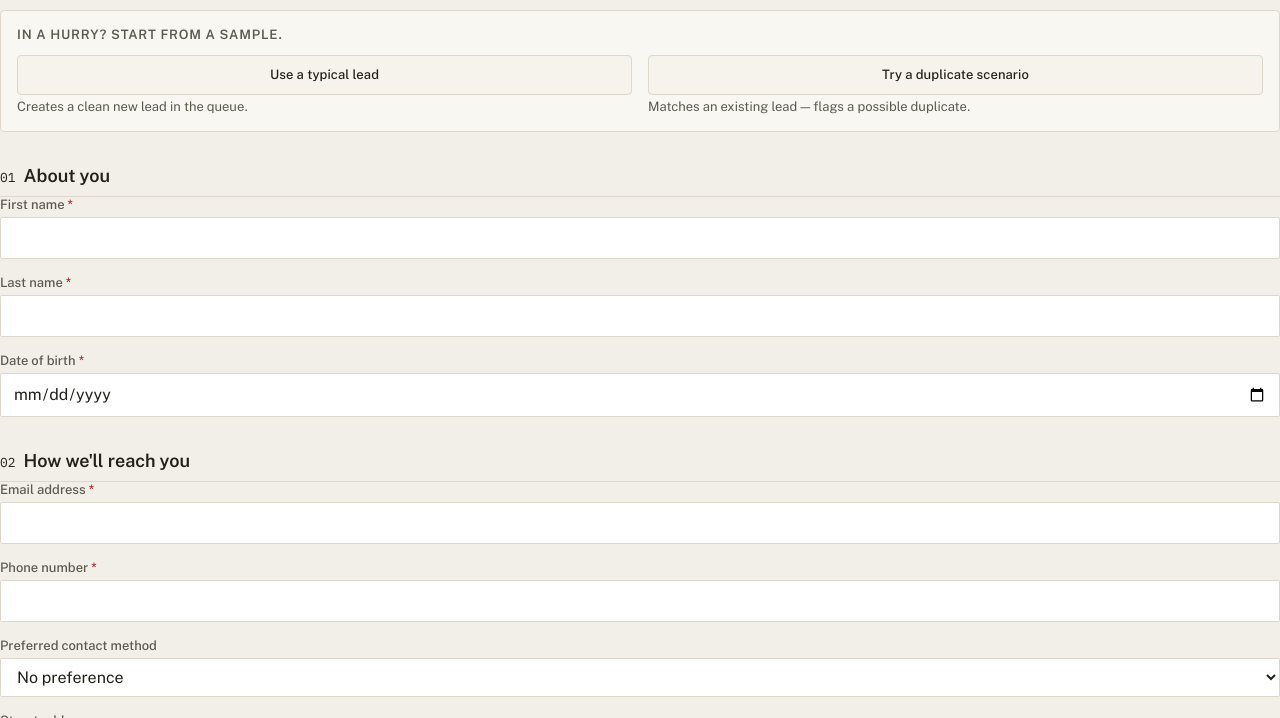
Scenario: ShopperIntakeForm submission › shows a form-level error on a 429 and keeps the entered data
Type "Margaret" into the field with id "shopper-intake-first-name" at (640, 238), box [0,217,1279,259]
Type "Chen" into the field with id "shopper-intake-last-name" at (640, 316), box [0,295,1279,337]
Type "1956-03-12" into the date field with id "shopper-intake-date-of-birth" at (640, 395), box [0,373,1279,417]
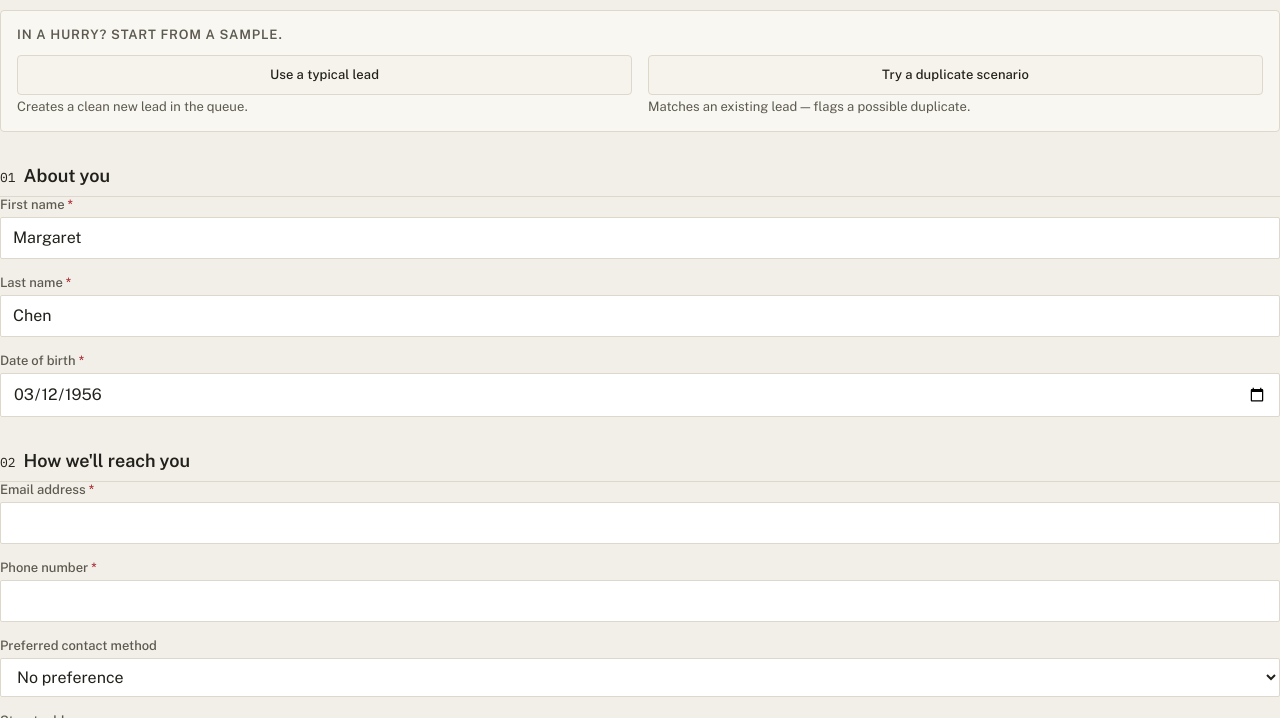
Type "margaret.chen@example.com" into the field with id "shopper-intake-email" at (640, 523), box [0,502,1279,544]
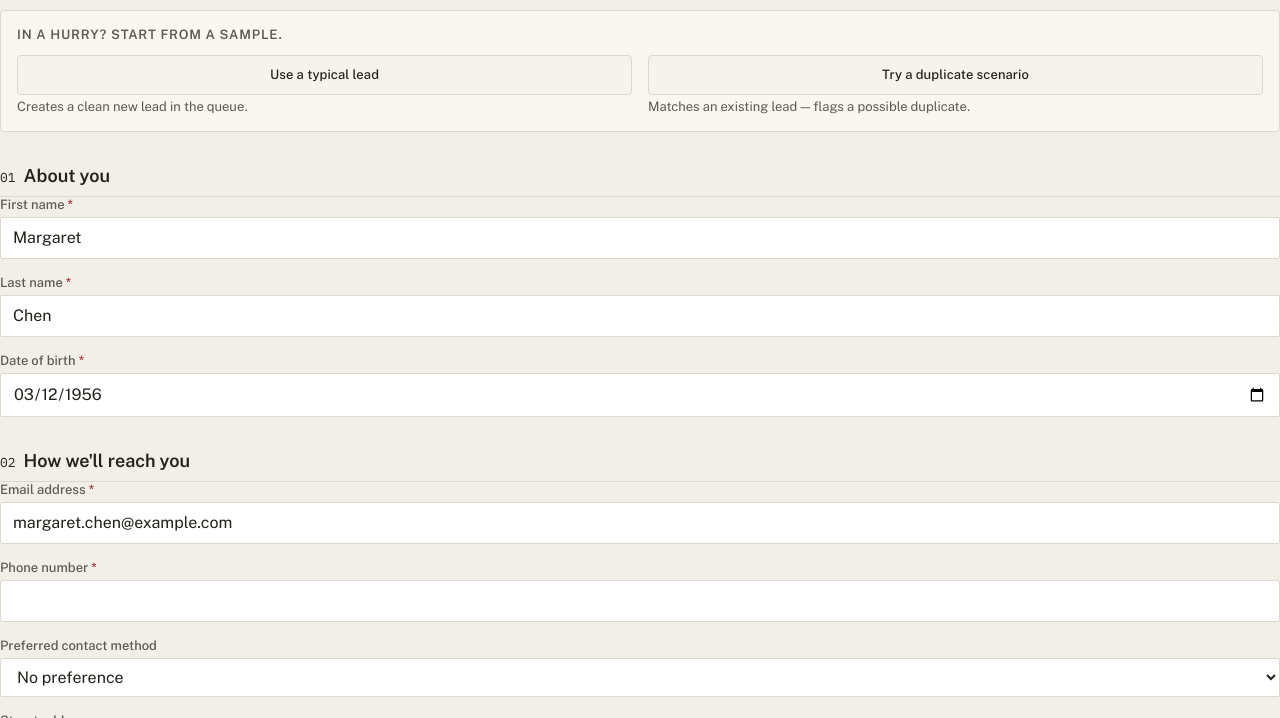
Type "(305) 555-0149" into the field with id "shopper-intake-phone" at (640, 601), box [0,580,1279,622]
(page scrolled)
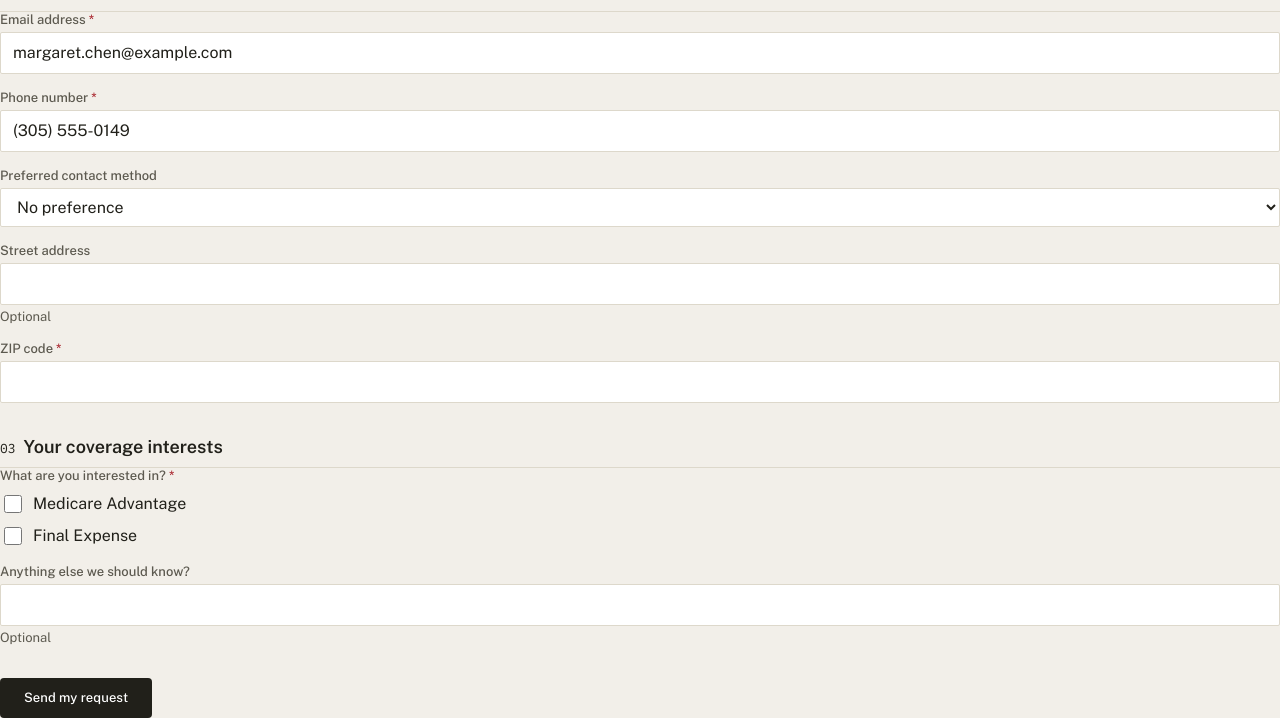
Type "33134" into the field with id "shopper-intake-zip-code" at (640, 382), box [0,361,1279,403]
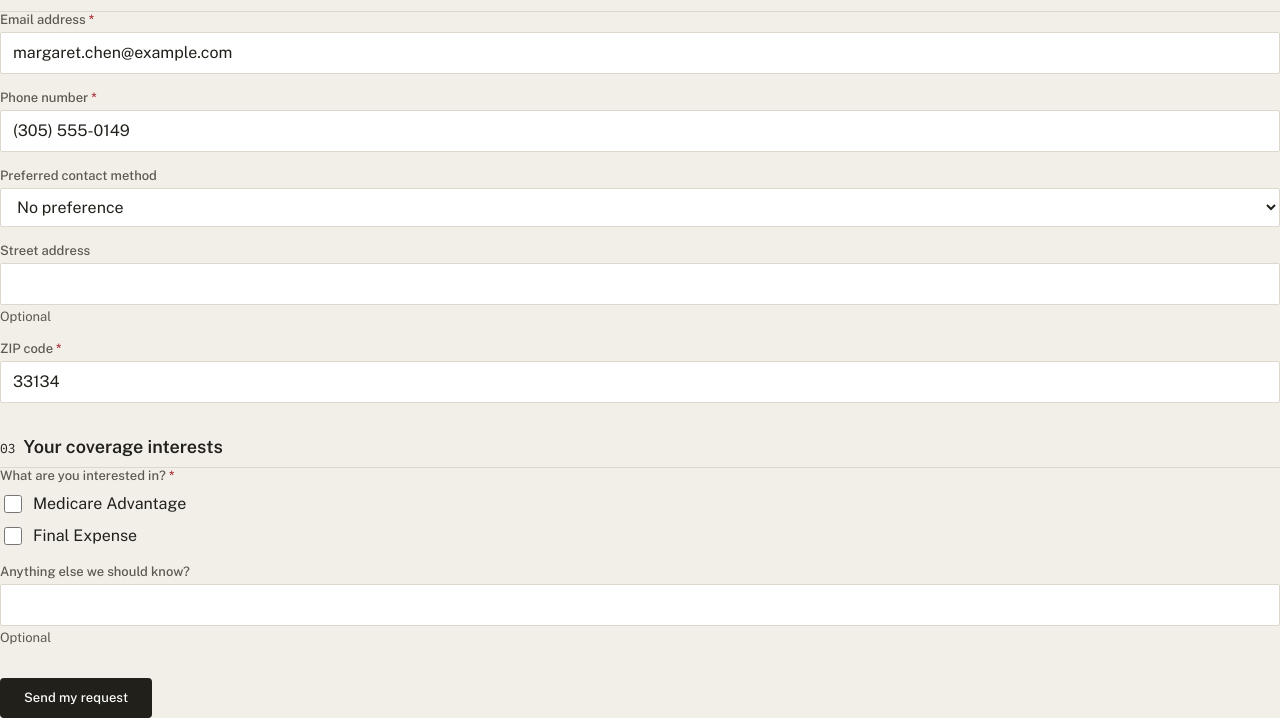
Click the checkbox with id "shopper-intake-product-lines-option-medicare_advantage" at (13, 504), box [4,495,22,513]
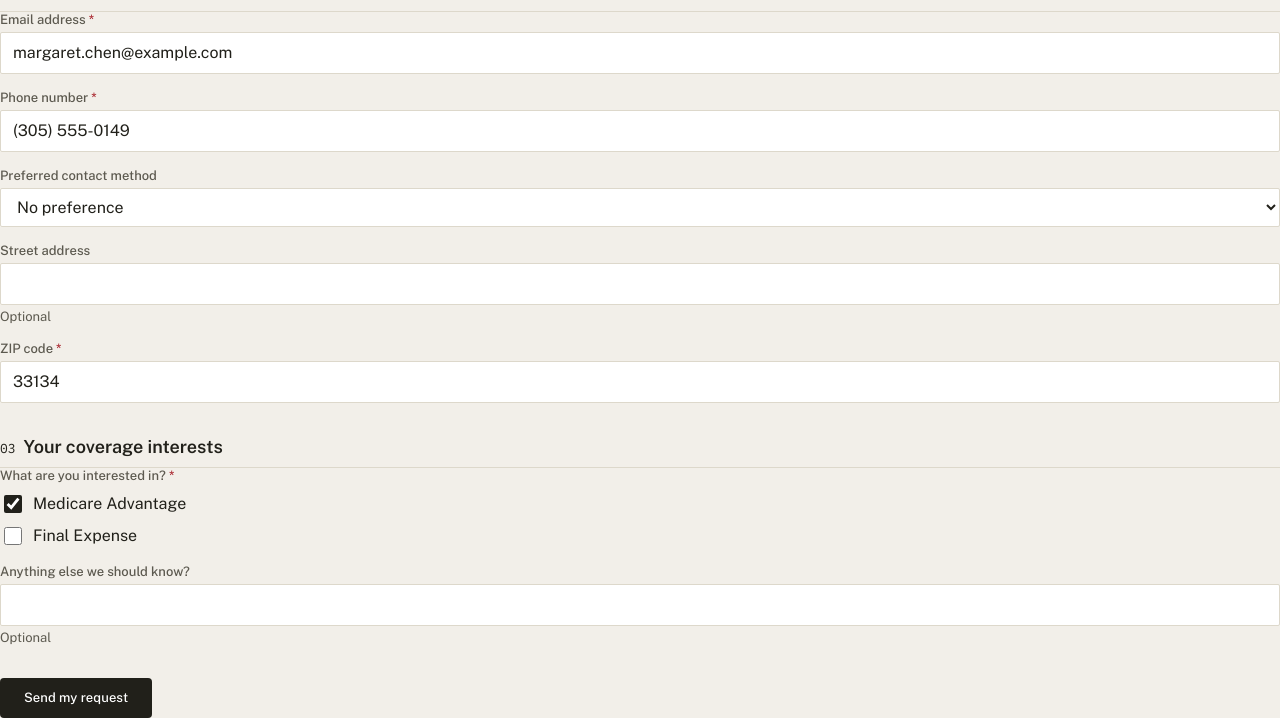
Click the button with id "shopper-intake-submit" at (76, 698), box [0,678,152,717]
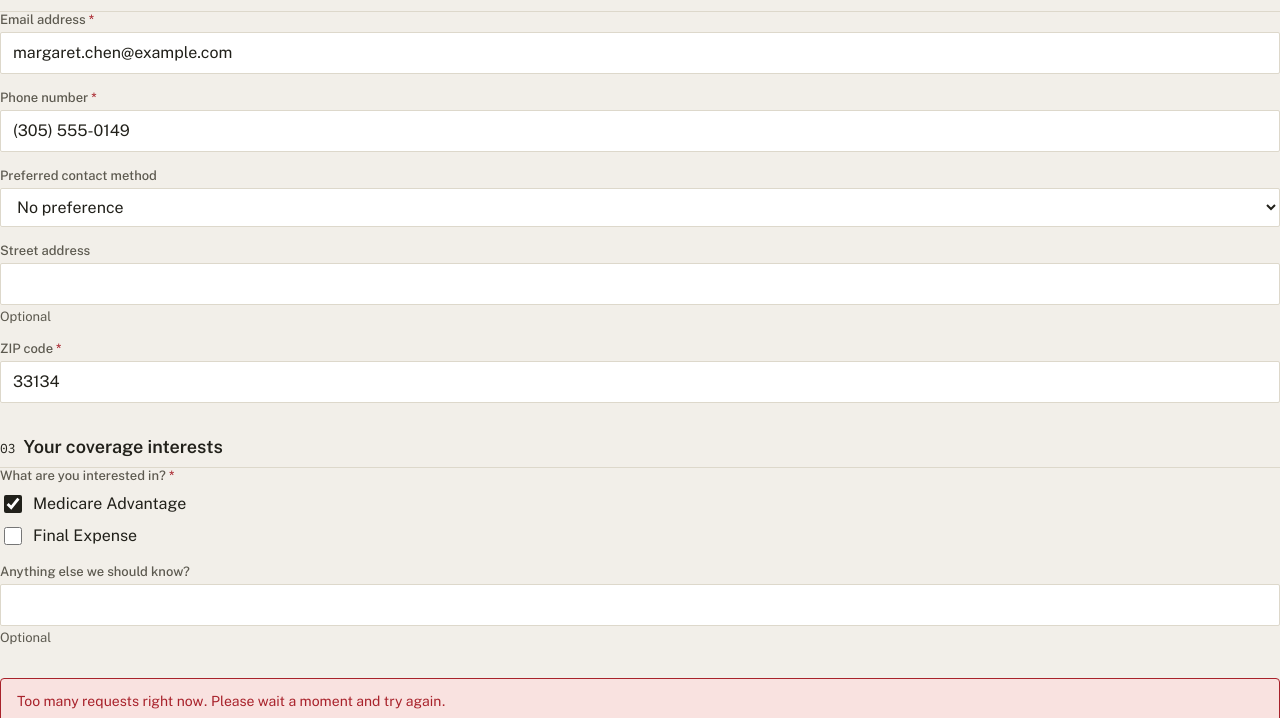
Expected: the message with id "shopper-intake-submit-error" shows "Too many requests", [17,693,446,709]
